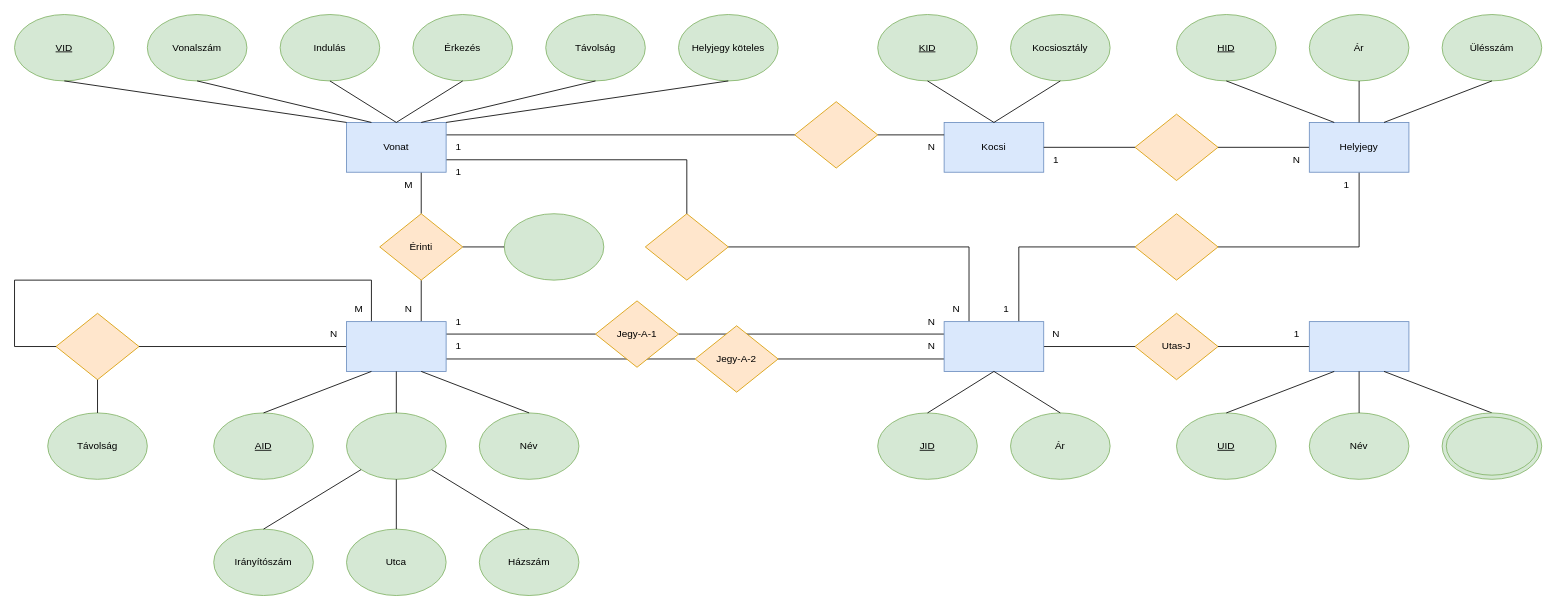
The diagram is 1556 pixels wide and 610 high, and some of its shapes have lost their labels. The box of each missing label's shape, as (x1, y1, x2, y2) in pixels:
Cím: (346, 412, 446, 479)
Email: (1445, 416, 1538, 475)
Hjegy-K: (1134, 113, 1218, 181)
Jegy: (943, 321, 1044, 371)
Jegy-H: (1134, 213, 1218, 280)
Jegy-V: (644, 213, 728, 280)
Része: (794, 101, 878, 168)
Távolsága: (55, 312, 139, 380)
Utas: (1308, 321, 1409, 371)
Végállomás: (503, 213, 604, 280)
Állomás: (346, 321, 446, 371)
